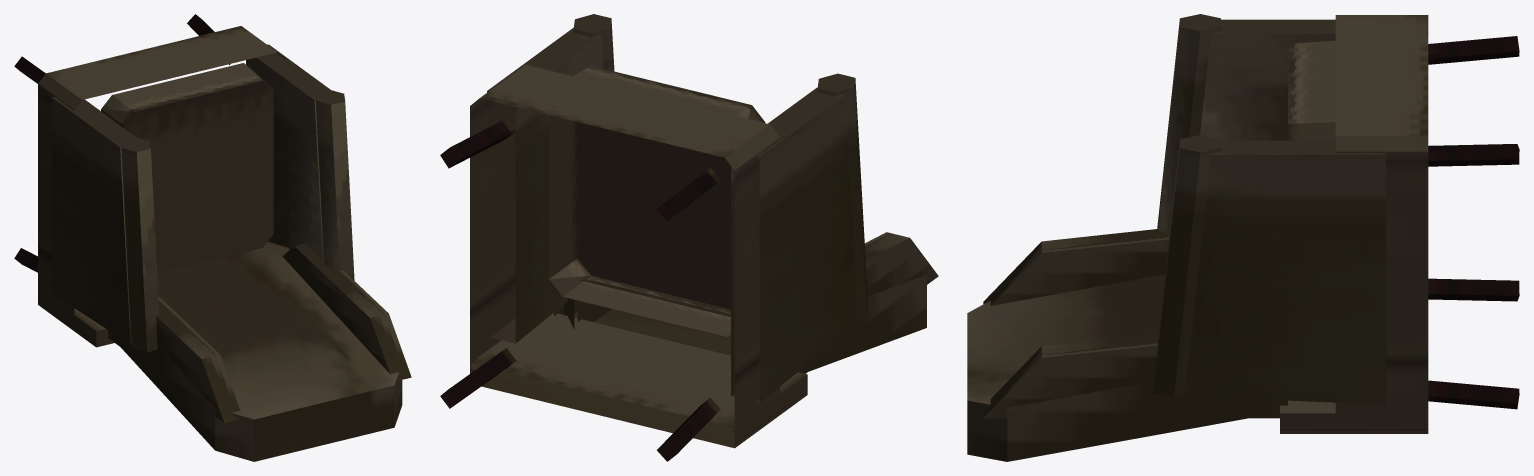
The model's file is pz_chair_seating_indoor_03_black_fancy_fidelity_r1.obj.
3 renders of one model, left to right at view 1: azimuth 30°, elevation 25°; view 2: azimuth 150°, elevation 25°; view 3: azimuth 270°, elevation 25°, orthographic. The views are drawn at different scales.
Parts seen in each view (by area): view 1: pz_chair_seating_indoor_03_black_fancy__reclined_wing_back__back, pz_chair_seating_indoor_03_black_fancy__seat_0__seat, pz_chair_seating_indoor_03_black_fancy__narrow_side_-1__arm, pz_chair_seating_indoor_03_black_fancy__lower_body__body, pz_chair_seating_indoor_03_black_fancy__narrow_side_1__arm, pz_chair_seating_indoor_03_black_fancy__small_roll_-1__arm, pz_chair_seating_indoor_03_black_fancy__side_wing_1__back, pz_chair_seating_indoor_03_black_fancy__small_roll_1__arm, pz_chair_seating_indoor_03_black_fancy__side_wing_-1__back, pz_chair_seating_indoor_03_black_fancy__rear_body_bridge__body, pz_chair_seating_indoor_03_black_fancy__splayed_foot_-1_1__frame; view 2: pz_chair_seating_indoor_03_black_fancy__seat_0__seat, pz_chair_seating_indoor_03_black_fancy__lower_body__body, pz_chair_seating_indoor_03_black_fancy__narrow_side_-1__arm, pz_chair_seating_indoor_03_black_fancy__rear_body_bridge__body, pz_chair_seating_indoor_03_black_fancy__narrow_side_1__arm, pz_chair_seating_indoor_03_black_fancy__reclined_wing_back__back, pz_chair_seating_indoor_03_black_fancy__small_roll_-1__arm, pz_chair_seating_indoor_03_black_fancy__side_wing_-1__back, pz_chair_seating_indoor_03_black_fancy__splayed_foot_1_1__frame, pz_chair_seating_indoor_03_black_fancy__splayed_foot_1_-1__frame, pz_chair_seating_indoor_03_black_fancy__splayed_foot_-1_-1__fram, pz_chair_seating_indoor_03_black_fancy__splayed_foot_-1_1__frame (+2 smaller); view 3: pz_chair_seating_indoor_03_black_fancy__narrow_side_1__arm, pz_chair_seating_indoor_03_black_fancy__reclined_wing_back__back, pz_chair_seating_indoor_03_black_fancy__lower_body__body, pz_chair_seating_indoor_03_black_fancy__narrow_side_-1__arm, pz_chair_seating_indoor_03_black_fancy__side_wing_1__back, pz_chair_seating_indoor_03_black_fancy__small_roll_1__arm, pz_chair_seating_indoor_03_black_fancy__side_wing_-1__back, pz_chair_seating_indoor_03_black_fancy__small_roll_-1__arm, pz_chair_seating_indoor_03_black_fancy__seat_0__seat, pz_chair_seating_indoor_03_black_fancy__rear_body_bridge__body, pz_chair_seating_indoor_03_black_fancy__splayed_foot_-1_-1__fram, pz_chair_seating_indoor_03_black_fancy__splayed_foot_1_1__frame (+2 smaller).
Boxes of the visible parts, bbox=[...] form: pz_chair_seating_indoor_03_black_fancy__reclined_wing_back__back: bbox=[113, 241, 402, 461]; pz_chair_seating_indoor_03_black_fancy__seat_0__seat: bbox=[101, 63, 273, 273]; pz_chair_seating_indoor_03_black_fancy__narrow_side_-1__arm: bbox=[51, 96, 135, 344]; pz_chair_seating_indoor_03_black_fancy__lower_body__body: bbox=[38, 26, 285, 316]; pz_chair_seating_indoor_03_black_fancy__narrow_side_1__arm: bbox=[246, 44, 330, 260]; pz_chair_seating_indoor_03_black_fancy__small_roll_-1__arm: bbox=[120, 137, 159, 352]; pz_chair_seating_indoor_03_black_fancy__side_wing_1__back: bbox=[282, 243, 411, 380]; pz_chair_seating_indoor_03_black_fancy__small_roll_1__arm: bbox=[315, 89, 354, 280]; pz_chair_seating_indoor_03_black_fancy__side_wing_-1__back: bbox=[108, 296, 240, 422]; pz_chair_seating_indoor_03_black_fancy__rear_body_bridge__body: bbox=[38, 289, 114, 347]; pz_chair_seating_indoor_03_black_fancy__splayed_foot_-1_1__frame: bbox=[14, 56, 45, 83]; pz_chair_seating_indoor_03_black_fancy__seat_0__seat: bbox=[549, 66, 765, 336]; pz_chair_seating_indoor_03_black_fancy__lower_body__body: bbox=[470, 64, 780, 437]; pz_chair_seating_indoor_03_black_fancy__narrow_side_-1__arm: bbox=[731, 87, 858, 403]; pz_chair_seating_indoor_03_black_fancy__rear_body_bridge__body: bbox=[470, 313, 807, 448]; pz_chair_seating_indoor_03_black_fancy__narrow_side_1__arm: bbox=[487, 28, 603, 343]; pz_chair_seating_indoor_03_black_fancy__reclined_wing_back__back: bbox=[564, 274, 926, 373]; pz_chair_seating_indoor_03_black_fancy__small_roll_-1__arm: bbox=[817, 73, 868, 321]; pz_chair_seating_indoor_03_black_fancy__side_wing_-1__back: bbox=[798, 232, 938, 373]; pz_chair_seating_indoor_03_black_fancy__splayed_foot_1_1__frame: bbox=[440, 118, 515, 168]; pz_chair_seating_indoor_03_black_fancy__splayed_foot_1_-1__frame: bbox=[440, 348, 515, 408]; pz_chair_seating_indoor_03_black_fancy__splayed_foot_-1_-1__fram: bbox=[657, 397, 720, 461]; pz_chair_seating_indoor_03_black_fancy__splayed_foot_-1_1__frame: bbox=[656, 167, 720, 221]; pz_chair_seating_indoor_03_black_fancy__narrow_side_1__arm: bbox=[1184, 140, 1385, 404]; pz_chair_seating_indoor_03_black_fancy__reclined_wing_back__back: bbox=[967, 274, 1266, 461]; pz_chair_seating_indoor_03_black_fancy__lower_body__body: bbox=[1335, 15, 1428, 415]; pz_chair_seating_indoor_03_black_fancy__narrow_side_-1__arm: bbox=[1200, 19, 1335, 140]; pz_chair_seating_indoor_03_black_fancy__side_wing_1__back: bbox=[983, 333, 1287, 418]; pz_chair_seating_indoor_03_black_fancy__small_roll_1__arm: bbox=[1153, 135, 1220, 397]; pz_chair_seating_indoor_03_black_fancy__side_wing_-1__back: bbox=[983, 229, 1169, 305]; pz_chair_seating_indoor_03_black_fancy__small_roll_-1__arm: bbox=[1157, 14, 1220, 232]; pz_chair_seating_indoor_03_black_fancy__seat_0__seat: bbox=[1288, 40, 1335, 140]; pz_chair_seating_indoor_03_black_fancy__rear_body_bridge__body: bbox=[1280, 400, 1428, 433]; pz_chair_seating_indoor_03_black_fancy__splayed_foot_-1_-1__fram: bbox=[1428, 278, 1519, 301]; pz_chair_seating_indoor_03_black_fancy__splayed_foot_1_1__frame: bbox=[1428, 144, 1519, 166].
Bounding box in the file's own units: 0.623 × 0.7035 × 1.05.
Materials: 1 (1 with a texture image).
